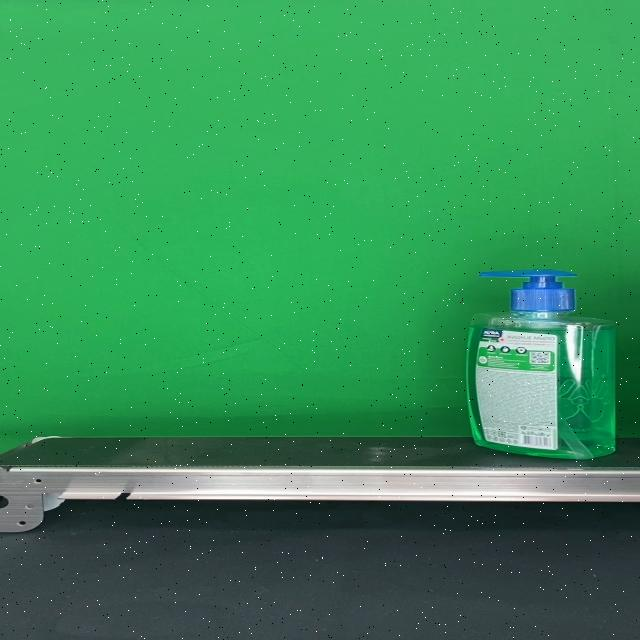Bottle: (466, 269, 616, 459)
Cap: (476, 270, 577, 312)
